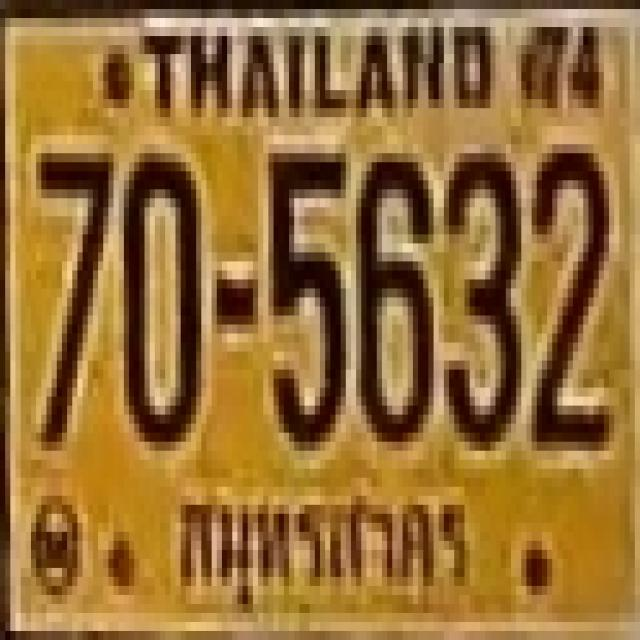0: (119, 144, 196, 442)
2: (531, 135, 604, 442)
3: (441, 144, 514, 442)
5: (266, 144, 343, 442)
6: (351, 149, 428, 437)
7: (36, 144, 109, 442)
SKN: (166, 484, 482, 613)
